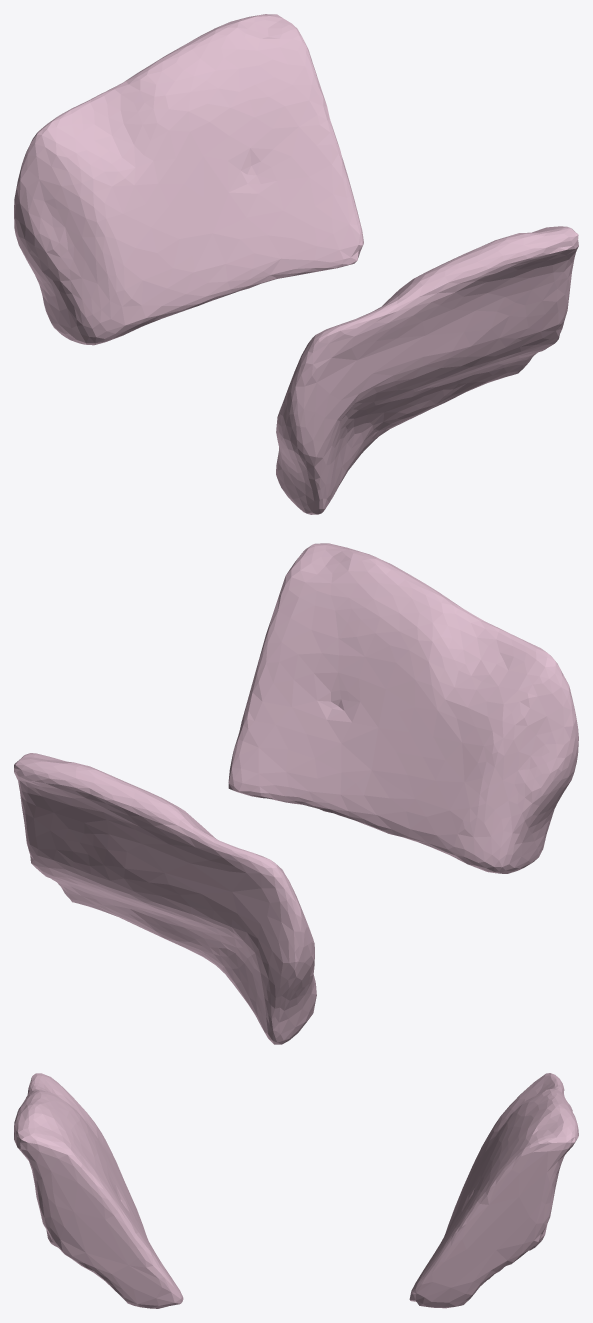
3 renders of one model, top to bottom at view 1: azimuth 30°, elevation 25°; view 2: azimuth 150°, elevation 25°; view 3: azimuth 270°, elevation 25°, orthographic. The views are drawn at different scales.
Visible parts, largest first — view 1: 852.obj; view 2: 852.obj; view 3: 852.obj.
Boxes of the visible parts, x1,y1,x2,y2 form: 852.obj: [14, 14, 578, 514]; 852.obj: [14, 543, 578, 1044]; 852.obj: [14, 1073, 578, 1308].
Bounding box in the file's own units: 2073 × 1733 × 3925.
